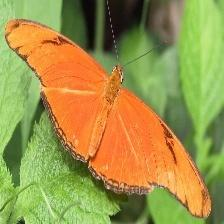butterfly: (5, 20, 211, 218)
